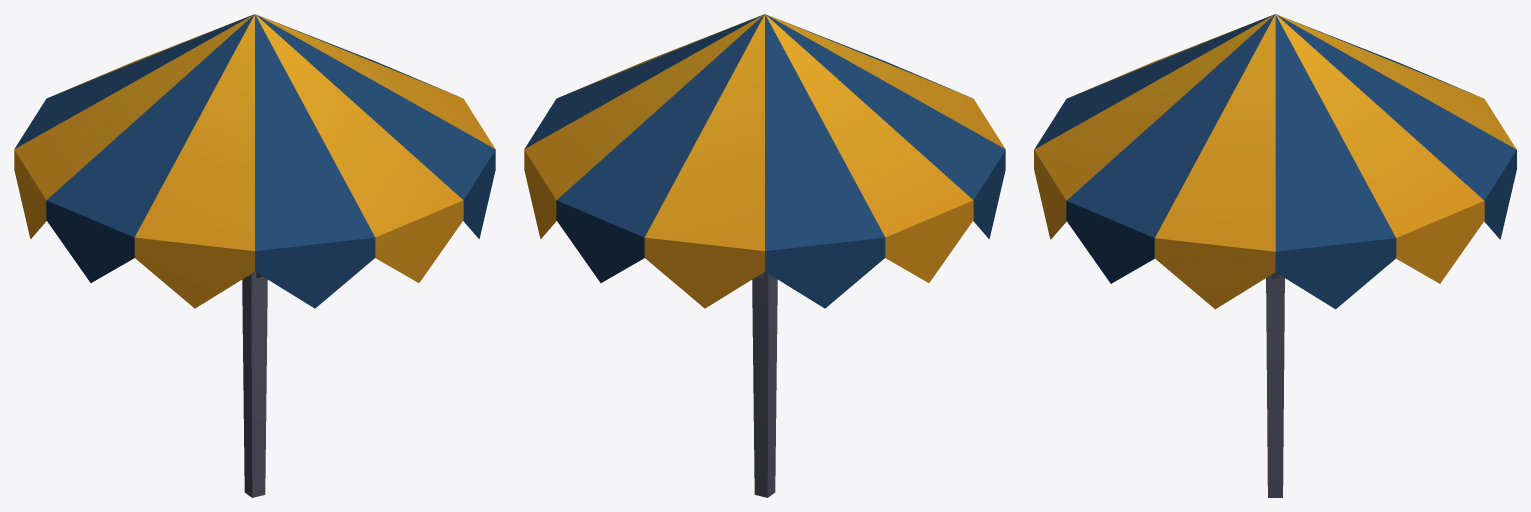
File: SM_Umbrella_2.FBX
The picture shows the model from 3 angles, left to right: view 1: azimuth 30°, elevation 25°; view 2: azimuth 150°, elevation 25°; view 3: azimuth 270°, elevation 25°; orthographic projection.
Visible parts, largest first — view 1: SM_Umbrella_2; view 2: SM_Umbrella_2; view 3: SM_Umbrella_2.
Boxes of the visible parts, x1,y1,x2,y2 form: SM_Umbrella_2: (14,14,495,497); SM_Umbrella_2: (524,14,1005,497); SM_Umbrella_2: (1034,14,1516,497).
Size of what is drawn, in the model's own units: 336 by 336 by 369.
